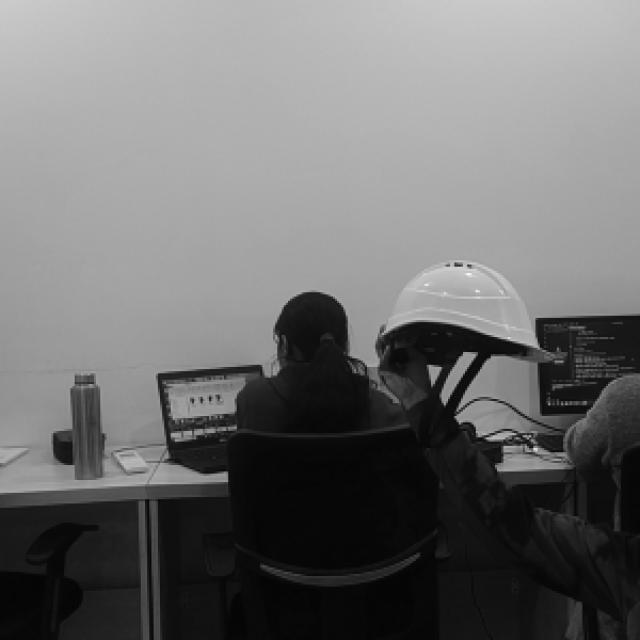safety_helmet: (378, 260, 552, 365)
